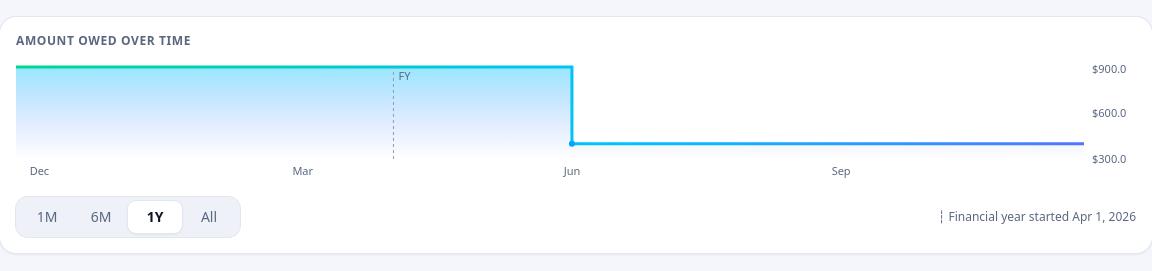
it: BalanceChart › shows a liability as the amount owed, and All from the first entry
This screenshot has width=1152, height=271.
Check: the heading "Amount owed over time" is shown, box top-left (16, 32), bottom-right (191, 49)
Click the radio button labelled "All" at (209, 217), box top-left (182, 201), bottom-right (236, 233)
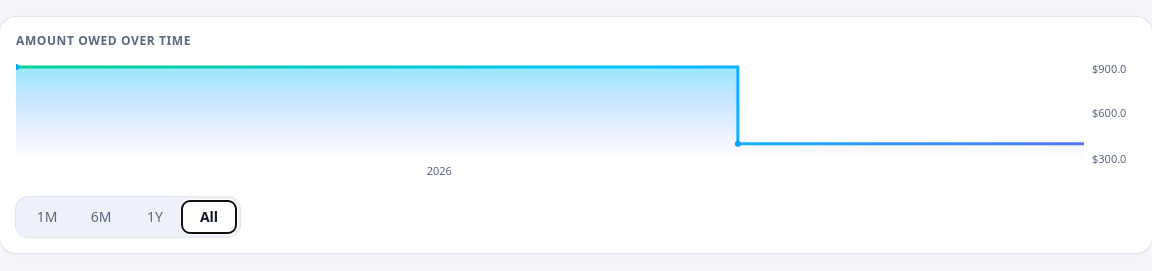
Check: the text "Financial year started" is gone
